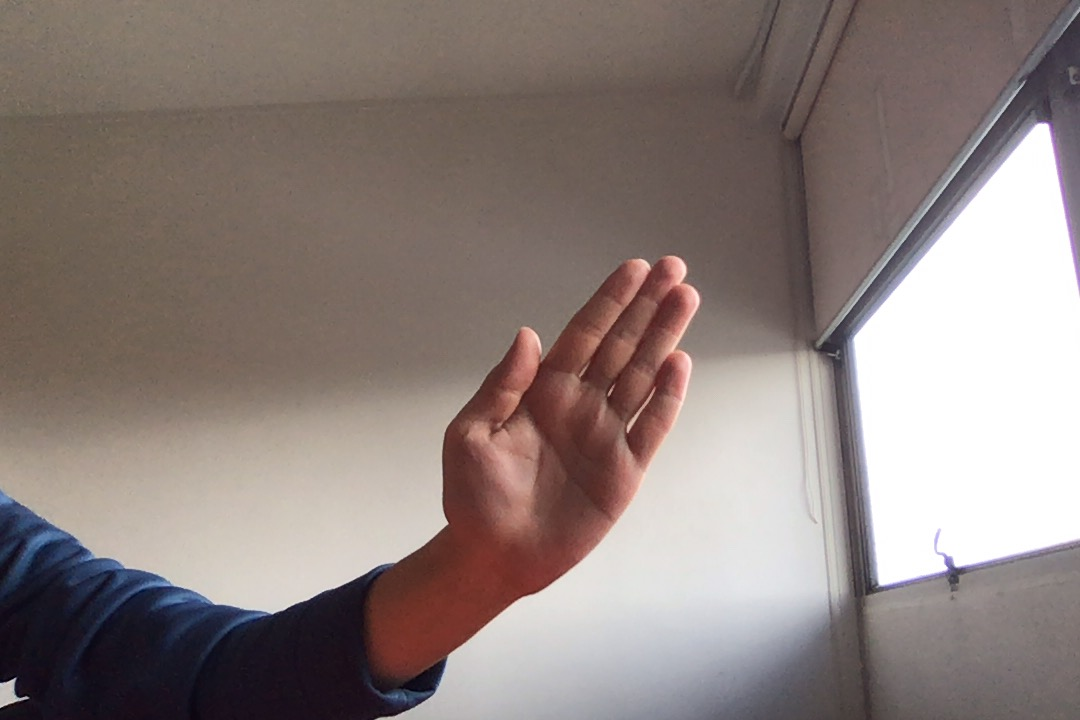palmhand: (438, 247, 705, 605)
